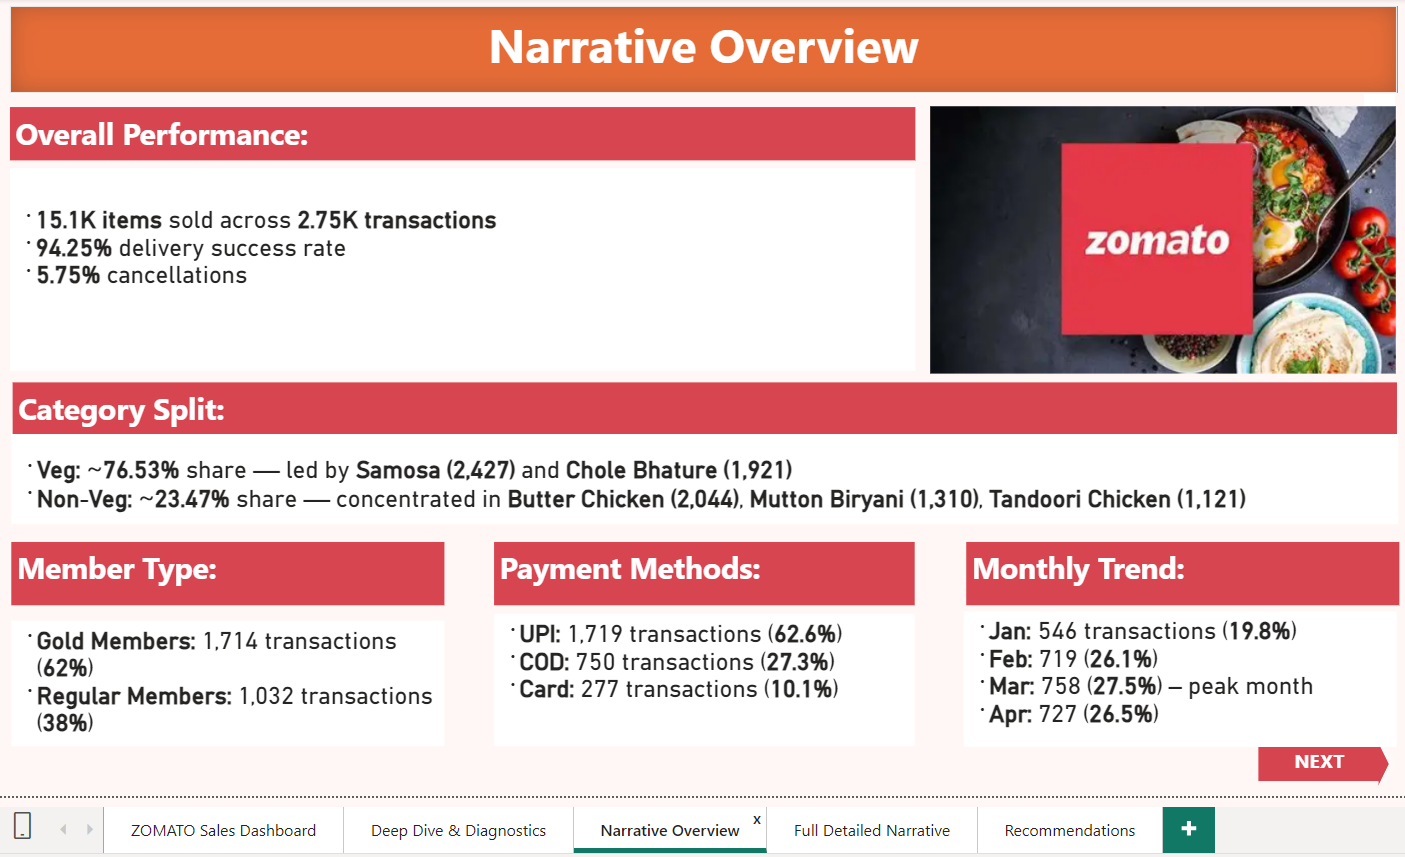

The dashboard page shown, as its layout file describes it:
{"tool":"powerbi","page":{"name":"Narrative Overview","canvas":[1280,720],"ordinal":2},"visuals":[{"type":"shape","box":[1131.6,662.7,136.2,57.6],"z":0},{"type":"textbox","box":[15.7,379.8,1252.1,95.6],"z":1000},{"type":"textbox","box":[14.2,153.5,817.4,183],"z":2000},{"type":"textbox","box":[15.7,561.6,390.9,113.7],"z":3000},{"type":"textbox","box":[451.6,555.9,379.6,119.4],"z":4000},{"type":"textbox","box":[875.8,553.5,390.9,122.3],"z":5000},{"type":"textbox","box":[14.2,98.1,817.4,48.3],"z":6000},{"type":"textbox","box":[17.1,346.9,1249.6,46.9],"z":7000},{"type":"textbox","box":[15.7,490.5,390.9,56.9],"z":8000},{"type":"textbox","box":[451.6,490.5,379.6,56.9],"z":9000},{"type":"textbox","box":[877.2,490.9,390.9,56.9],"z":10000},{"type":"textbox","box":[13.9,7.6,1254.2,77.4],"z":11000},{"type":"image","box":[837.3,92.4,436.4,251.6],"z":12000}]}

Visuals, with their boxes on the page's 1280x720 design canvas (x1, y1, x2, y2). These are canvas units, not pixel positions in the 1405x857 screenshot, which may show the page scaled, cropped or inside an application window:
shape: rect(1132, 663, 1268, 720)
textbox: rect(16, 380, 1268, 475)
textbox: rect(14, 154, 832, 336)
textbox: rect(16, 562, 407, 675)
textbox: rect(452, 556, 831, 675)
textbox: rect(876, 554, 1267, 676)
textbox: rect(14, 98, 832, 146)
textbox: rect(17, 347, 1267, 394)
textbox: rect(16, 490, 407, 547)
textbox: rect(452, 490, 831, 547)
textbox: rect(877, 491, 1268, 548)
textbox: rect(14, 8, 1268, 85)
image: rect(837, 92, 1274, 344)
